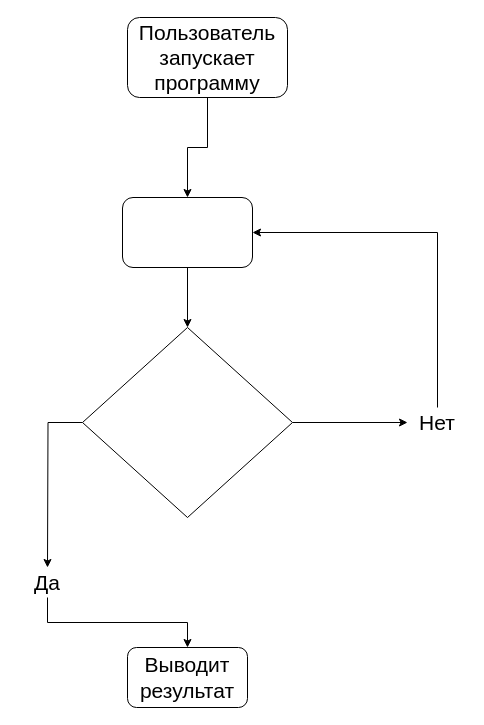
Some shapes in this 484 by 725 pixel diagram are drawn without their labels. The box of each missing label's shape, as (x1, y1, x2, y2) in pixels:
Вводит дату рождения: (122, 196, 252, 268)
Проверяет дату рождения: (82, 326, 292, 518)
